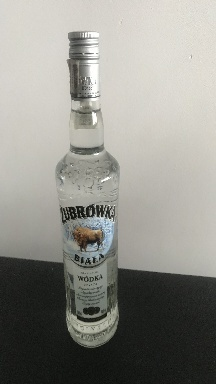butelka: (53, 27, 121, 350)
